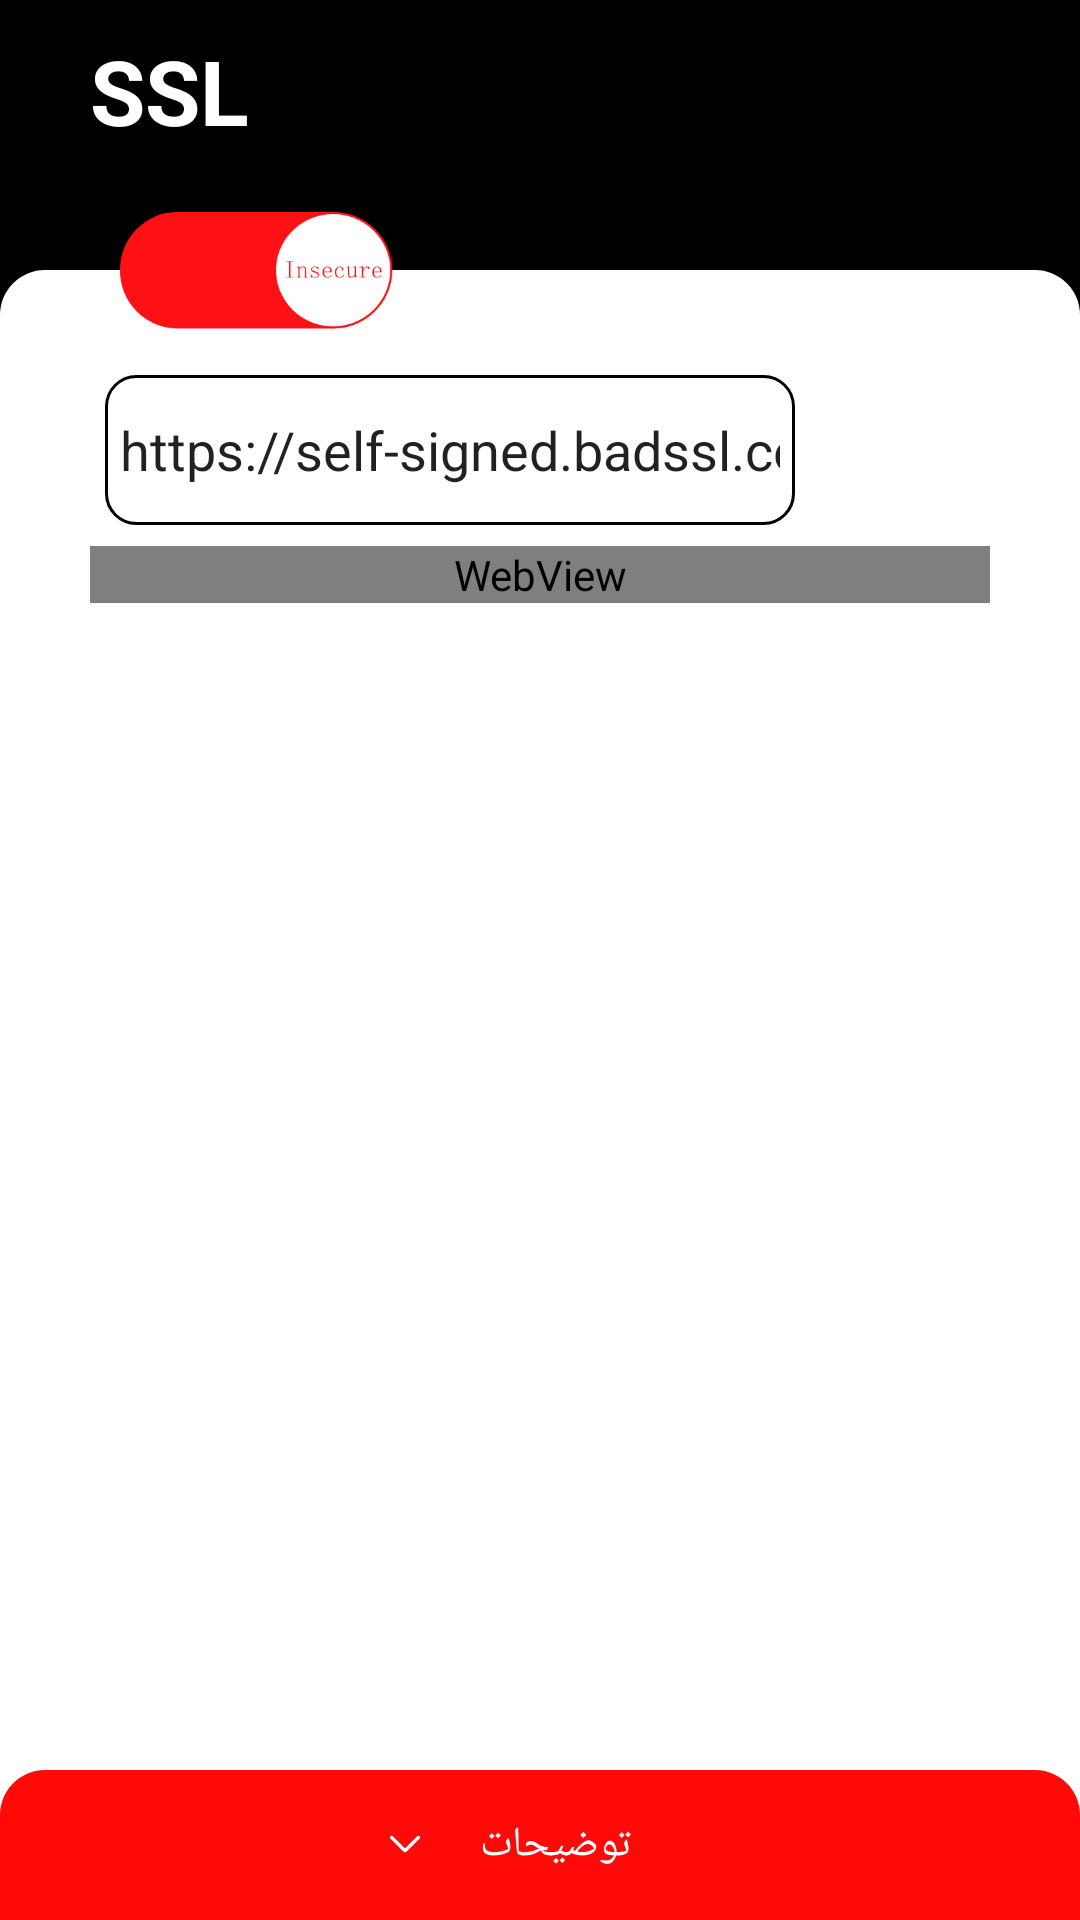

Screen size 1080w x 1920h. Icon name, then its center in pixels as point (x, y):
toggle switch: point (256, 270)
